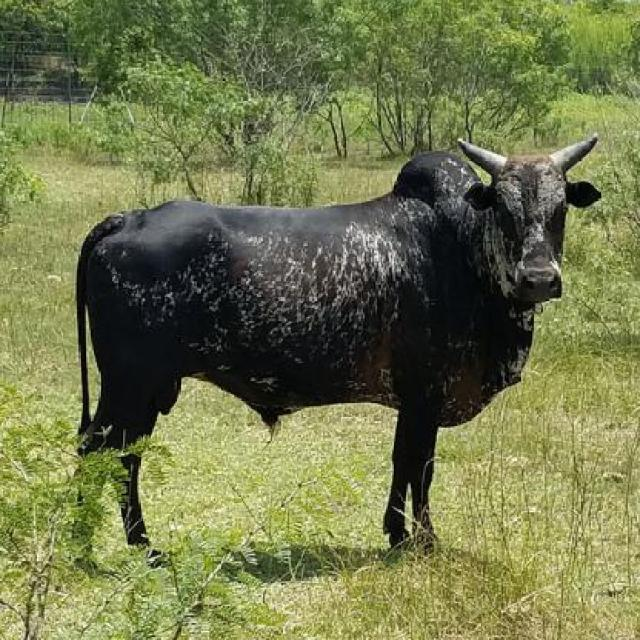Cow: (58, 124, 608, 570)
